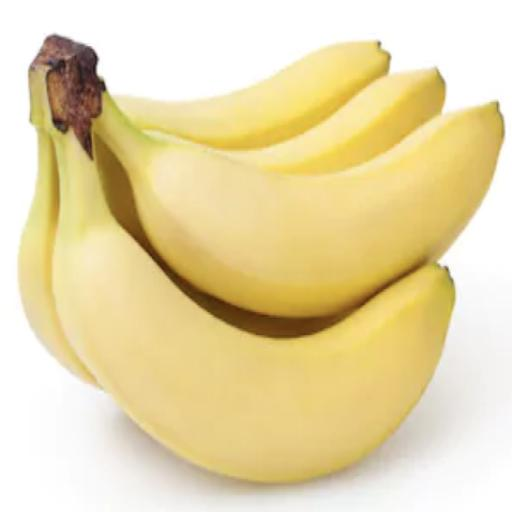banana: (50, 127, 454, 481), (94, 91, 503, 316), (117, 42, 389, 149), (19, 68, 97, 385), (231, 70, 445, 174), (19, 128, 95, 383)
